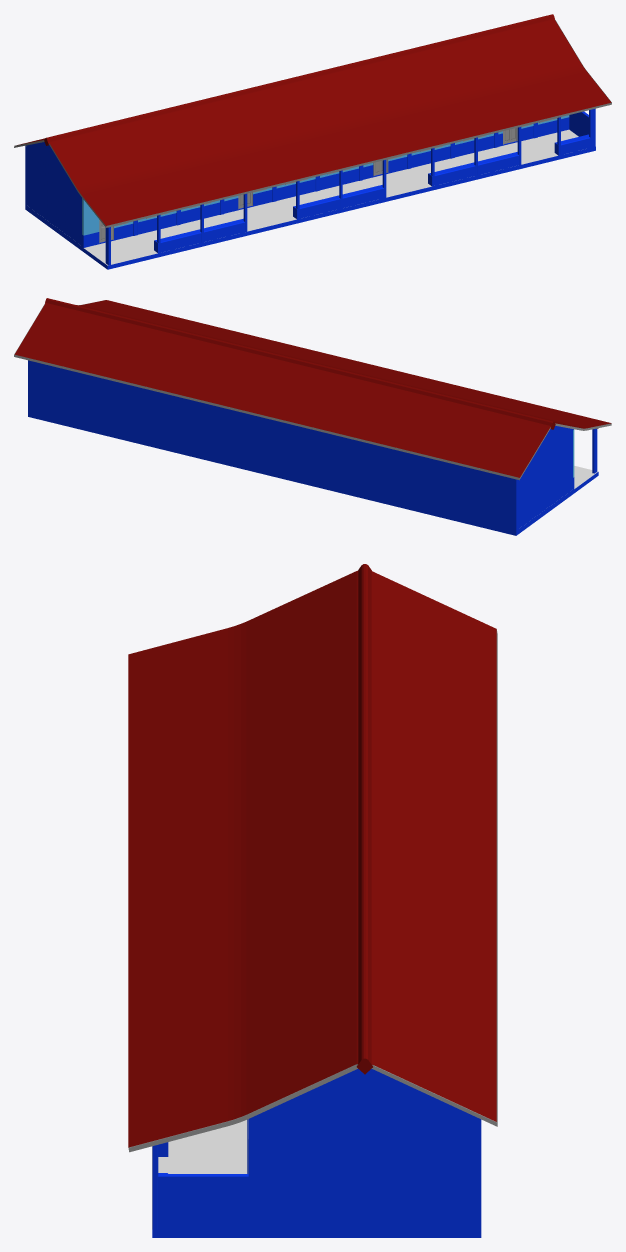
The model's file is Models.glb.
3 renders of one model, top to bottom at view 1: azimuth 30°, elevation 25°; view 2: azimuth 150°, elevation 25°; view 3: azimuth 270°, elevation 25°, orthographic. The views are drawn at different scales.
Visible parts, largest first — view 1: Cube.046, Cube.000, Cube.004, Cube.022, Cube.013, Cube.018, Cube.008, Cube.007, Cube.002; view 2: Cube.046, Cube.001, Cube.022, Cube.000; view 3: Cube.046, Cube.002, Cube.000.
Boxes of the visible parts, <box> form: Cube.046: <box>14,14,611,227</box>; Cube.000: <box>25,129,595,269</box>; Cube.004: <box>82,115,569,247</box>; Cube.022: <box>26,142,81,245</box>; Cube.013: <box>293,185,383,218</box>; Cube.018: <box>154,218,244,253</box>; Cube.008: <box>428,152,518,185</box>; Cube.007: <box>554,134,590,155</box>; Cube.002: <box>569,111,588,136</box>; Cube.046: <box>14,298,611,480</box>; Cube.001: <box>28,360,517,531</box>; Cube.022: <box>517,426,573,529</box>; Cube.000: <box>28,412,598,535</box>; Cube.046: <box>128,564,497,1152</box>; Cube.002: <box>158,1069,475,1229</box>; Cube.000: <box>152,1120,481,1237</box>.
Size of the model in its own units: 31.47 by 5.62 by 9.92.
